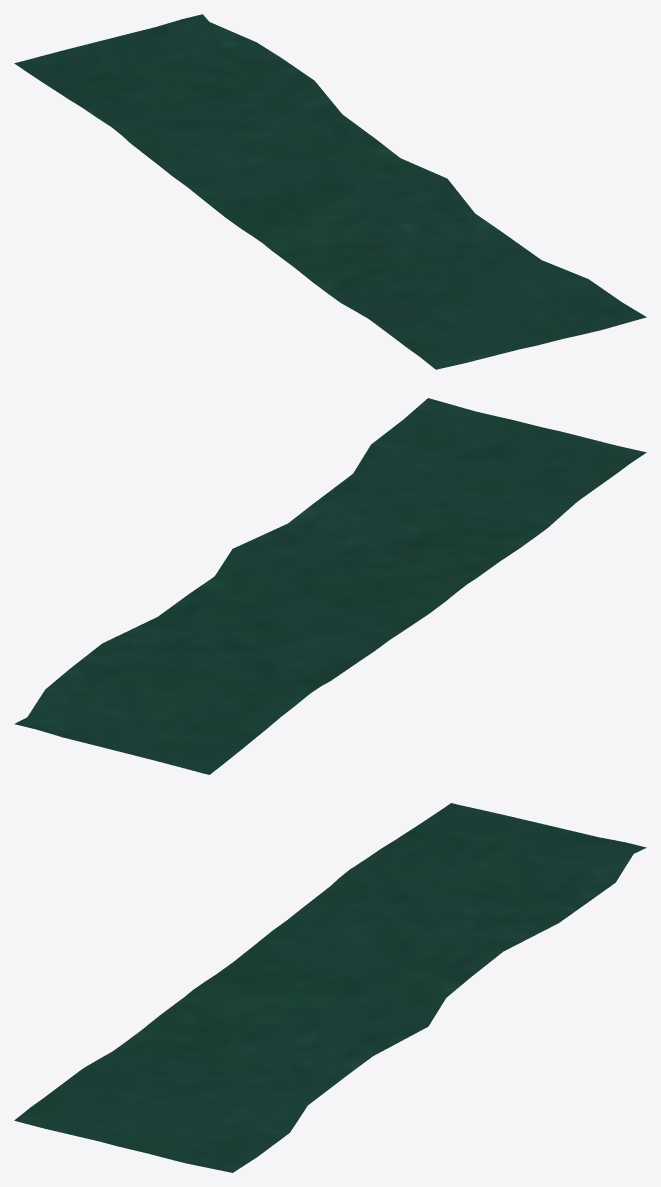
The picture shows the model from 3 angles, top to bottom: view 1: azimuth 30°, elevation 25°; view 2: azimuth 150°, elevation 25°; view 3: azimuth 330°, elevation 25°; orthographic projection. The views are drawn at different scales.
Bounding box in the file's own units: 15.09 × 0.5966 × 52.22.
Materials: 1 (1 with a texture image).
